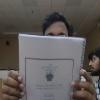notebook: (17, 33, 86, 99)
